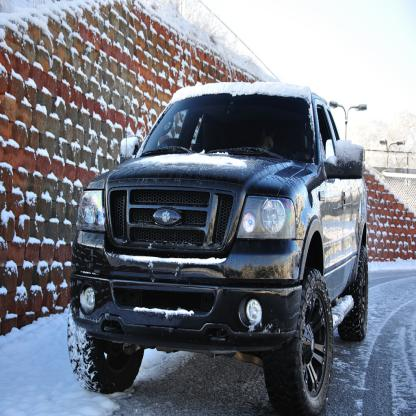Car: (67, 82, 369, 416)
Truck: (67, 82, 368, 416)
